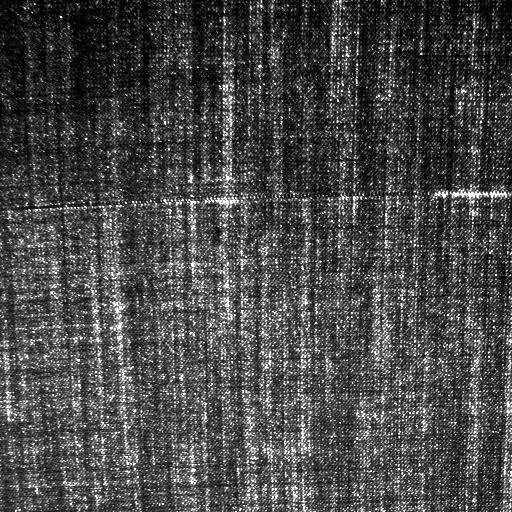fabric_broken_pick: (15, 184, 511, 208), (94, 200, 94, 214)
